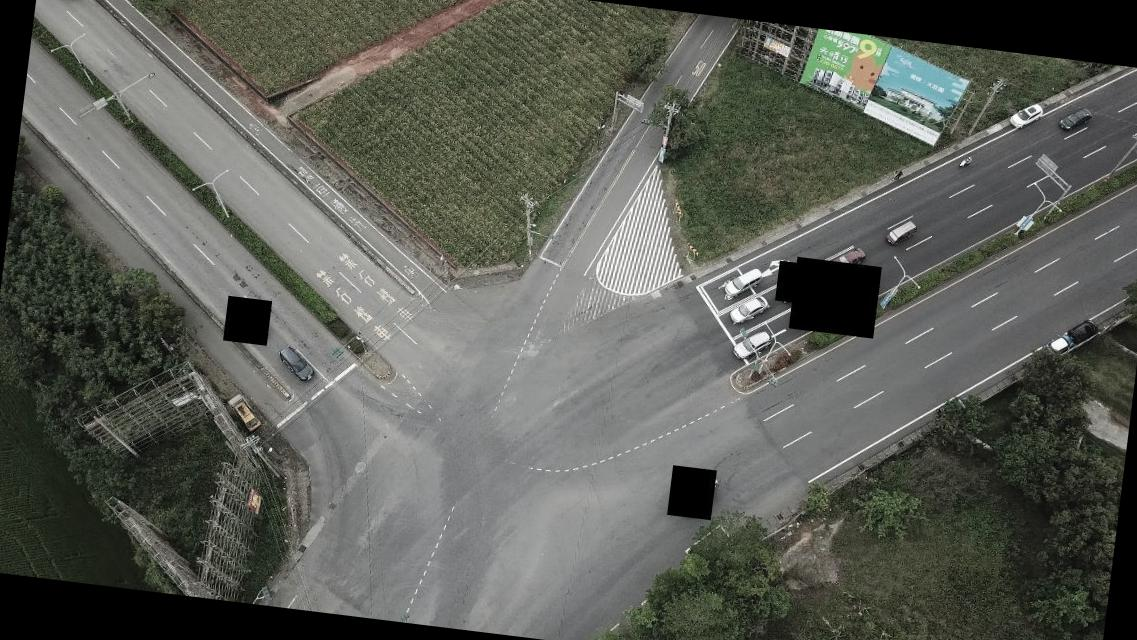vehicle: (728, 325, 774, 363), (274, 345, 316, 383), (729, 289, 770, 327), (722, 263, 763, 300), (827, 242, 865, 276), (935, 391, 973, 424), (1008, 99, 1043, 133), (228, 399, 264, 432), (1056, 104, 1094, 134), (1066, 316, 1100, 348), (882, 216, 916, 247), (1042, 332, 1074, 359)
